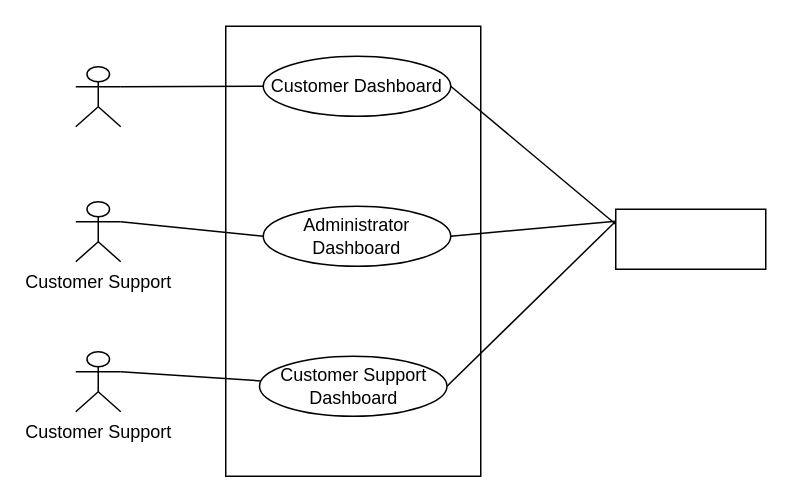
Some shapes in this 792 by 503 pixel diagram are drawn without their labels. The centre of each missing label's shape, as x and y in pixels:
Administrator: the point at 97,96
Database: the point at 690,238
